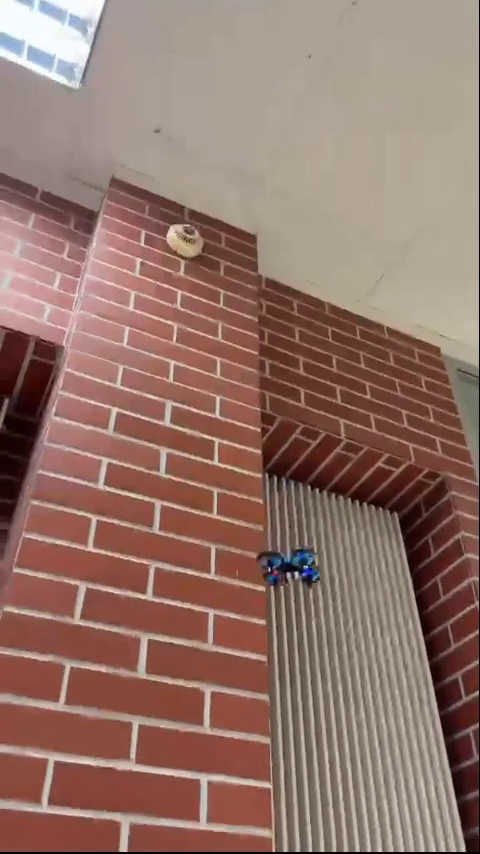drone: (260, 549, 317, 588)
